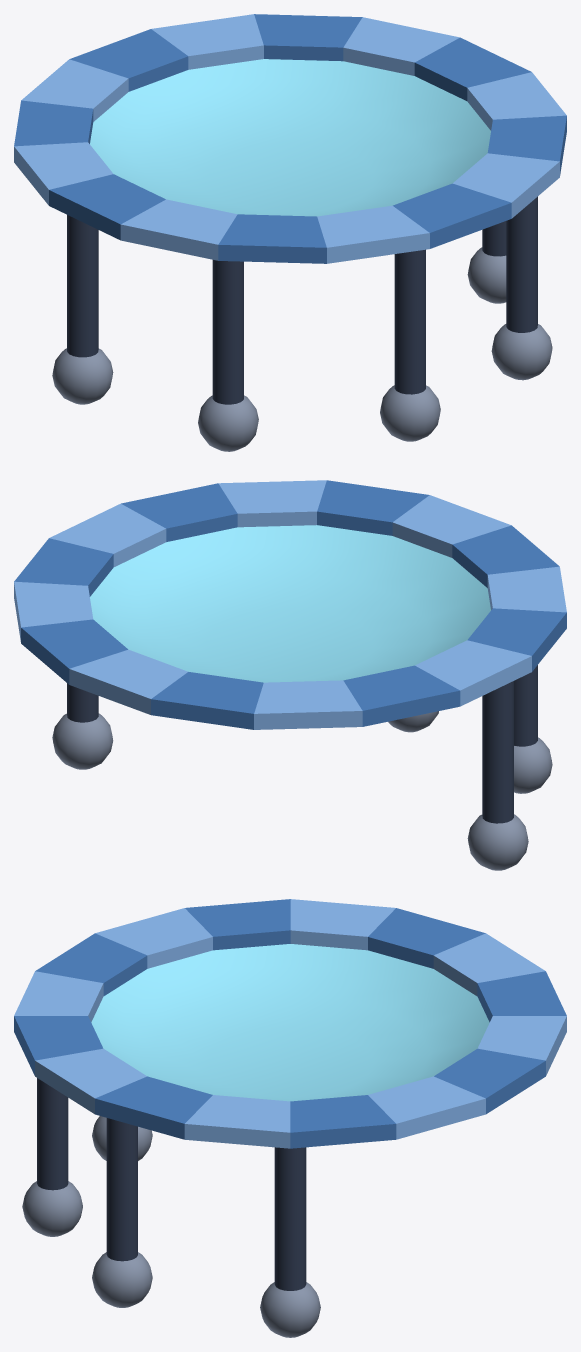
Rendered from bengchuang@tanya.FBX.
3 renders of one model, top to bottom at view 1: azimuth 30°, elevation 25°; view 2: azimuth 150°, elevation 25°; view 3: azimuth 270°, elevation 25°, orthographic.
Parts seen in each view (by area): view 1: 蹦床_弹压状态; view 2: 蹦床_弹压状态; view 3: 蹦床_弹压状态.
Part boxes in pixels (left/top/right/bottom): 蹦床_弹压状态: left=14, top=14, right=566, bottom=451; 蹦床_弹压状态: left=14, top=480, right=566, bottom=870; 蹦床_弹压状态: left=14, top=899, right=566, bottom=1337.
Size of the model in its own units: 99.56 by 43.45 by 99.56.
